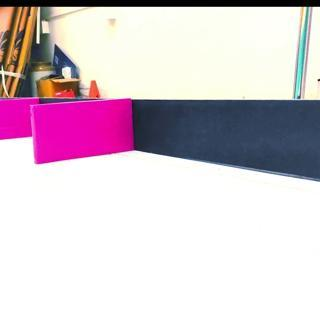xparking: (33, 108, 132, 155), (1, 97, 27, 142)
